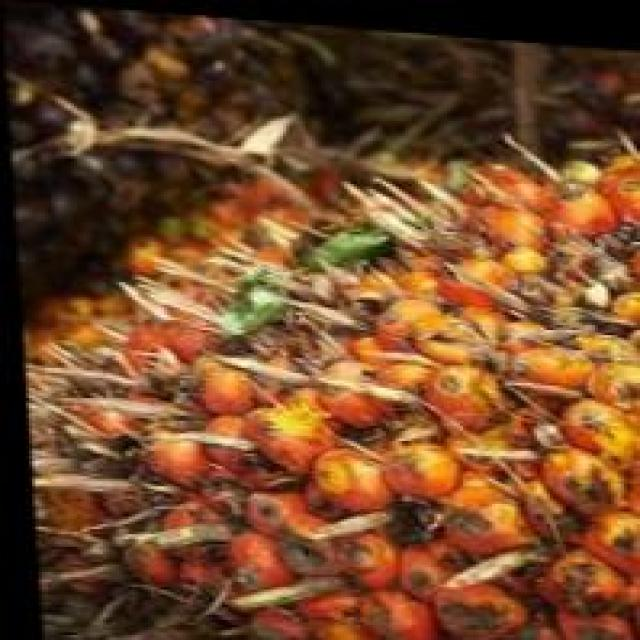Ripefruit: (19, 106, 640, 640)
